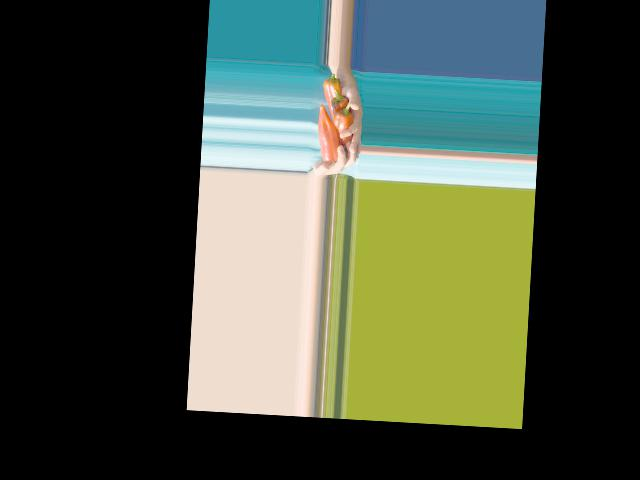bell_pepper: (322, 72, 344, 110)
